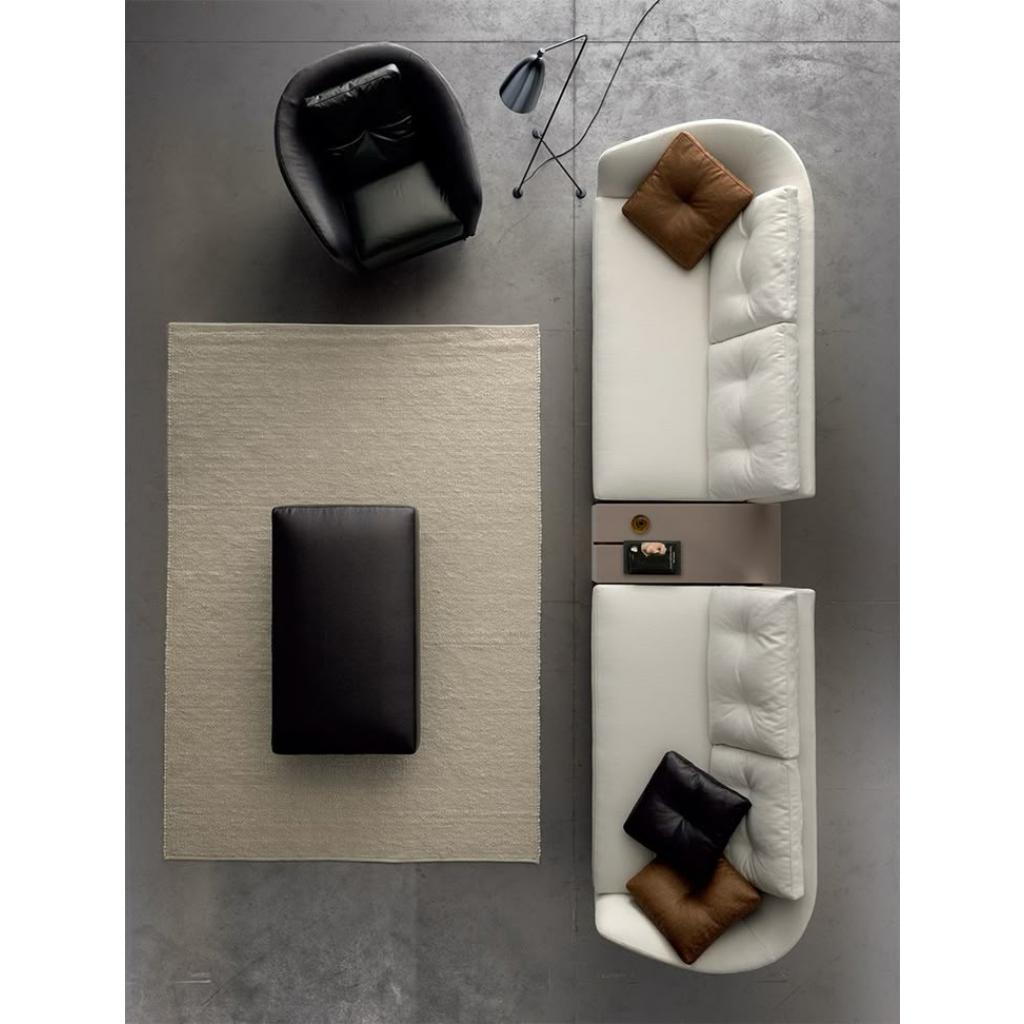chair: (263, 39, 487, 273)
floor lamp: (510, 118, 582, 200)
ottoman: (266, 503, 418, 757)
rug: (168, 324, 538, 864)
side table: (590, 508, 784, 586)
sofa: (592, 584, 816, 978), (590, 117, 814, 503)
